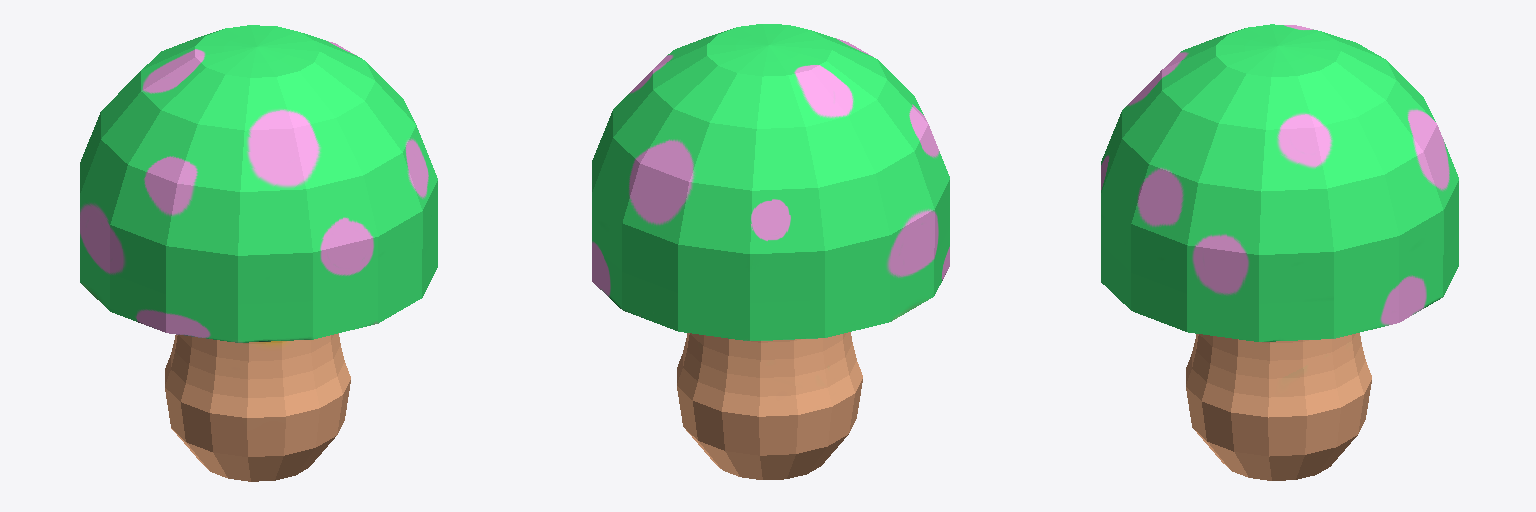
3 renders of one model, left to right at view 1: azimuth 30°, elevation 25°; view 2: azimuth 150°, elevation 25°; view 3: azimuth 270°, elevation 25°, orthographic.
Visible parts, largest first — view 1: MushroomBoy.001_Sphere.001; view 2: MushroomBoy.001_Sphere.001; view 3: MushroomBoy.001_Sphere.001.
Part boxes in pixels (x1,y1,x2,y2): MushroomBoy.001_Sphere.001: (80, 25, 437, 481); MushroomBoy.001_Sphere.001: (592, 24, 949, 479); MushroomBoy.001_Sphere.001: (1101, 24, 1458, 480).
Bounding box in the file's own units: 2.23 × 2.87 × 2.22.
1 materials, 1 textured.